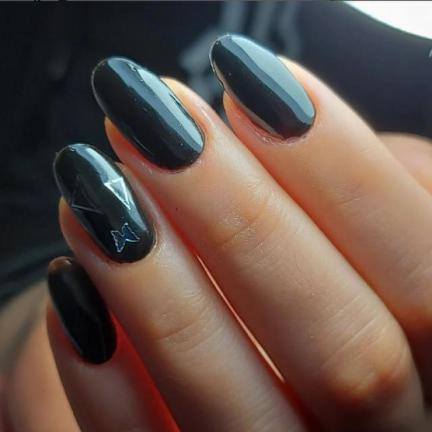Nail: (91, 57, 204, 169), (53, 143, 155, 262), (210, 34, 315, 138), (48, 258, 116, 363)
